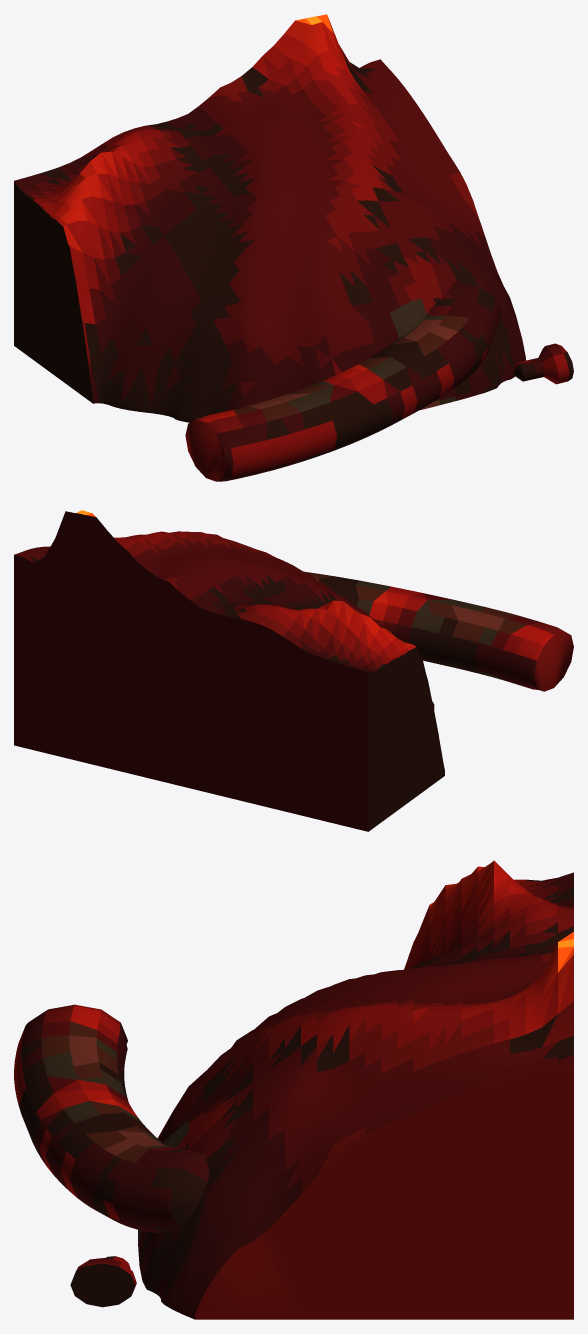
The model's file is lava_grub_l_b2.glb.
3 renders of one model, top to bottom at view 1: azimuth 30°, elevation 25°; view 2: azimuth 150°, elevation 25°; view 3: azimuth 270°, elevation 25°, orthographic. The views are drawn at different scales.
Parts seen in each view (by area): view 1: lava_grub_l_b2_grub_body, lava_grub_l_b2_grub_claw_front, lava_grub_l_b2_grub_claw_mid; view 2: lava_grub_l_b2_grub_body, lava_grub_l_b2_grub_claw_front; view 3: lava_grub_l_b2_grub_body, lava_grub_l_b2_grub_claw_front, lava_grub_l_b2_grub_claw_mid.
Part boxes in pixels (x1,y1,x2,y2): lava_grub_l_b2_grub_body: (14, 14, 525, 422); lava_grub_l_b2_grub_claw_front: (185, 282, 501, 481); lava_grub_l_b2_grub_claw_mid: (512, 343, 573, 384); lava_grub_l_b2_grub_body: (14, 510, 444, 831); lava_grub_l_b2_grub_claw_front: (306, 572, 573, 691); lava_grub_l_b2_grub_body: (138, 860, 573, 1319); lava_grub_l_b2_grub_claw_front: (14, 1004, 209, 1232); lava_grub_l_b2_grub_claw_mid: (70, 1256, 136, 1307).
Size of the model in its own units: 23.98 by 16.06 by 24.4.
